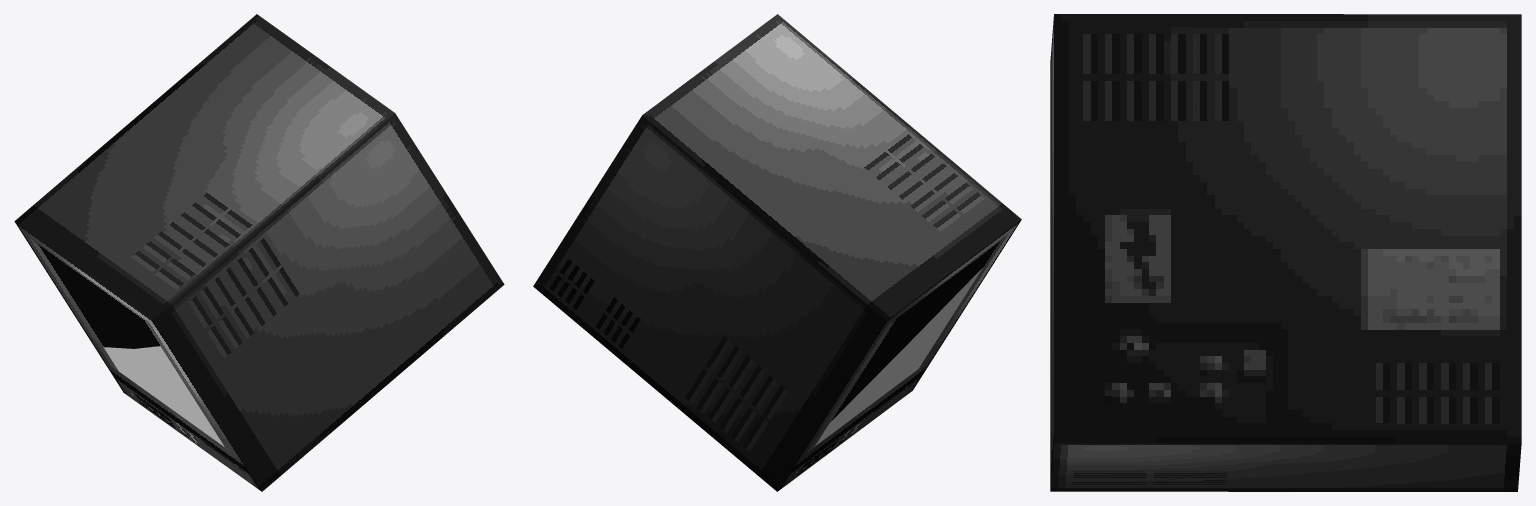
Rendered from primary_182.glb.
3 renders of one model, left to right at view 1: azimuth 30°, elevation 25°; view 2: azimuth 150°, elevation 25°; view 3: azimuth 270°, elevation 25°, orthographic. The views are drawn at different scales.
Visible parts, largest first — view 1: Object; view 2: Object; view 3: Object.
Part boxes in pixels (x1,y1,x2,y2): Object: (14, 14, 504, 491); Object: (533, 14, 1021, 491); Object: (1050, 14, 1521, 491).
Size of the model in its own units: 0.9092 by 0.8489 by 0.6136.
Materials: 7 (7 with a texture image).
